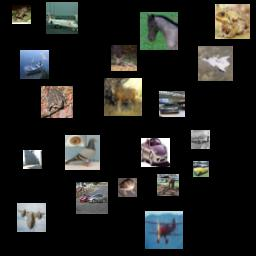airplane: (145, 211, 183, 249), (198, 46, 233, 81), (46, 2, 78, 34), (17, 203, 46, 232), (191, 130, 210, 149)
automobile: (76, 182, 108, 214), (141, 138, 170, 167), (159, 91, 185, 117), (193, 161, 209, 177)
bird: (65, 135, 100, 170), (118, 178, 137, 197)
deer: (104, 78, 142, 116), (111, 45, 137, 71)
frog: (215, 4, 250, 39), (41, 86, 73, 118), (12, 5, 31, 24)
ship: (20, 50, 49, 79), (23, 150, 42, 169)
